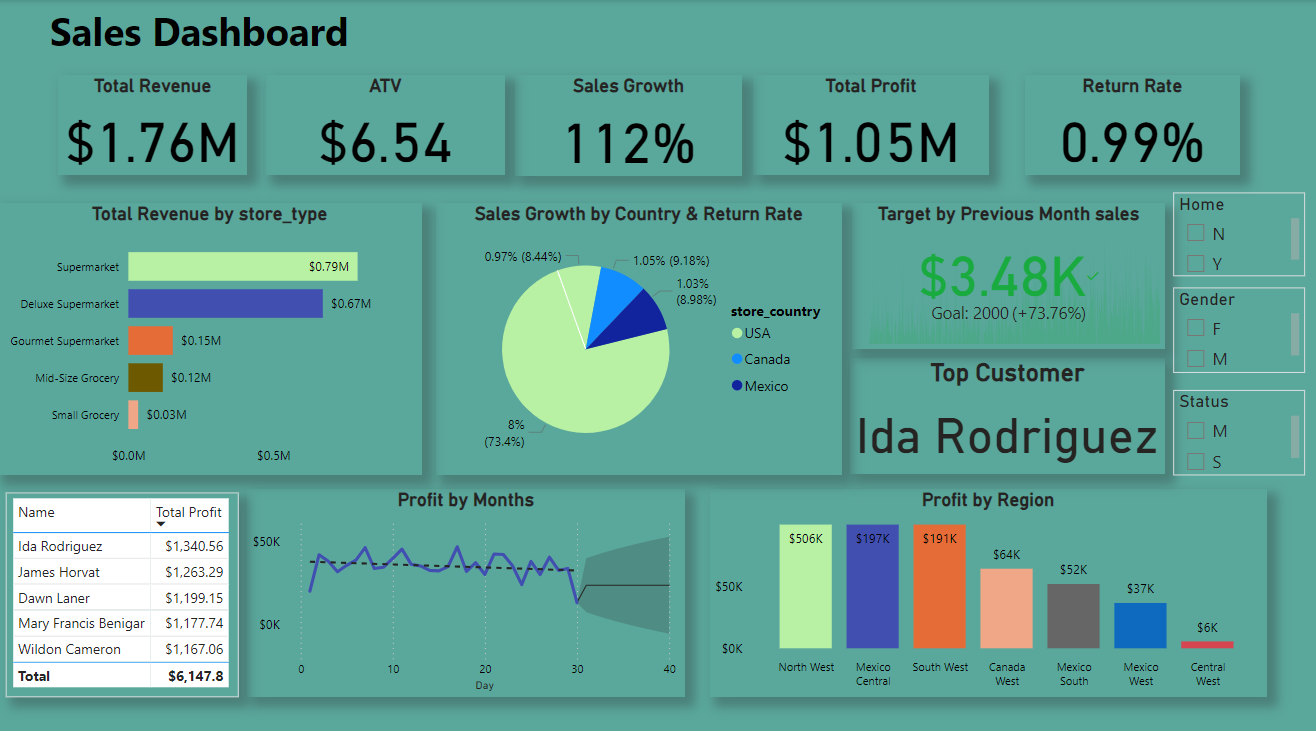

The page's visual inventory and layout, read from the dashboard file:
{"tool":"powerbi","page":{"name":"Sales Analysis","canvas":[1280,720],"ordinal":0},"visuals":[{"type":"card","title":"Total Revenue","fields":{"Values":["Measures (2).Total Revenue"]},"box":[59.5,72.6,182.1,96.4],"z":0},{"type":"card","title":"ATV","fields":{"Values":["Measures (2).ATV"]},"box":[259.5,72.6,231,96.4],"z":1000},{"type":"card","title":"Sales Growth","fields":{"Values":["Measures (2).Sales Growth"]},"box":[500,72.6,220.2,97.6],"z":2000},{"type":"card","title":"Return Rate","fields":{"Values":["Measures (2).Return Rate"]},"box":[991.7,72.6,208.3,96.4],"z":3000},{"type":"clusteredColumnChart","title":" Profit by Region","fields":{"Y":["Measures (2).Total Profit"],"Category":["Regions.sales_region"]},"box":[688.1,471.4,538.1,201.2],"z":4000},{"type":"card","title":"Total Profit ","fields":{"Values":["Measures (2).Total Profit"]},"box":[729.8,72.6,227.4,96.4],"z":5000},{"type":"tableEx","fields":{"Values":["Customers.Name ","Measures (2).Total Profit"]},"box":[8.3,475,225,197.6],"z":6000},{"type":"pieChart","title":"Sales Growth by Country & Return Rate","fields":{"Category":["Stores.store_country"],"Y":["Measures (2).Sales Growth","Measures (2).Return Rate"]},"box":[423.3,195.4,392,262.9],"z":7000},{"type":"clusteredBarChart","fields":{"Category":["Stores.store_type"],"Y":["Measures (2).Total Revenue"]},"box":[0,195.2,410.7,263.1],"z":8000},{"type":"lineChart","title":" Profit by Months","fields":{"Category":["Calendar.date.Variation.Date Hierarchy.Year","Calendar.date.Variation.Date Hierarchy.Quarter","Calendar.date.Variation.Date Hierarchy.Month","Calendar.date.Variation.Date Hierarchy.Day"],"Y":["Measures (2).Total Profit"]},"box":[241.7,471.4,422.6,201.2],"z":9000},{"type":"kpi","title":"Target by Previous Month sales","fields":{"Indicator":["Measures (2).Previous Month Sales"],"TrendLine":["Calendar.date"],"Goal":["Measures (2).Target"]},"box":[825,195.2,302.4,141.7],"z":10000},{"type":"card","title":"Top Customer","fields":{"Values":["Customers.Name "]},"box":[822.6,345.2,304.8,113.1],"z":11000},{"type":"slicer","title":"Gender","fields":{"Values":["Customers.gender"]},"box":[1135.7,277.4,127.4,82.1],"z":12000},{"type":"slicer","title":"Home","fields":{"Values":["Customers.homeowner"]},"box":[1135.7,185.7,127.4,81],"z":13000},{"type":"slicer","title":"Status","fields":{"Values":["Customers.marital_status"]},"box":[1135.7,376.2,127.4,82.1],"z":14000},{"type":"textbox","box":[0,0,390.5,61.9],"z":15000}]}

Visuals, with their boxes in screenshot pixels (x1, y1, x2, y2), scaled from the page's 1280x720 canvas onto the 1316x731 screenshot:
"Total Revenue" card: 61:74:248:172
"ATV" card: 267:74:504:172
"Sales Growth" card: 514:74:740:173
"Return Rate" card: 1020:74:1234:172
" Profit by Region" clusteredColumnChart: 707:479:1261:683
"Total Profit " card: 750:74:984:172
tableEx - Customers.Name  x Measures (2).Total Profit: 9:482:240:683
"Sales Growth by Country & Return Rate" pieChart: 435:198:838:465
clusteredBarChart - Stores.store_type x Measures (2).Total Revenue: 0:198:422:465
" Profit by Months" lineChart: 248:479:683:683
"Target by Previous Month sales" kpi: 848:198:1159:342
"Top Customer" card: 846:350:1159:465
"Gender" slicer: 1168:282:1299:365
"Home" slicer: 1168:189:1299:271
"Status" slicer: 1168:382:1299:465
textbox: 0:0:401:63
